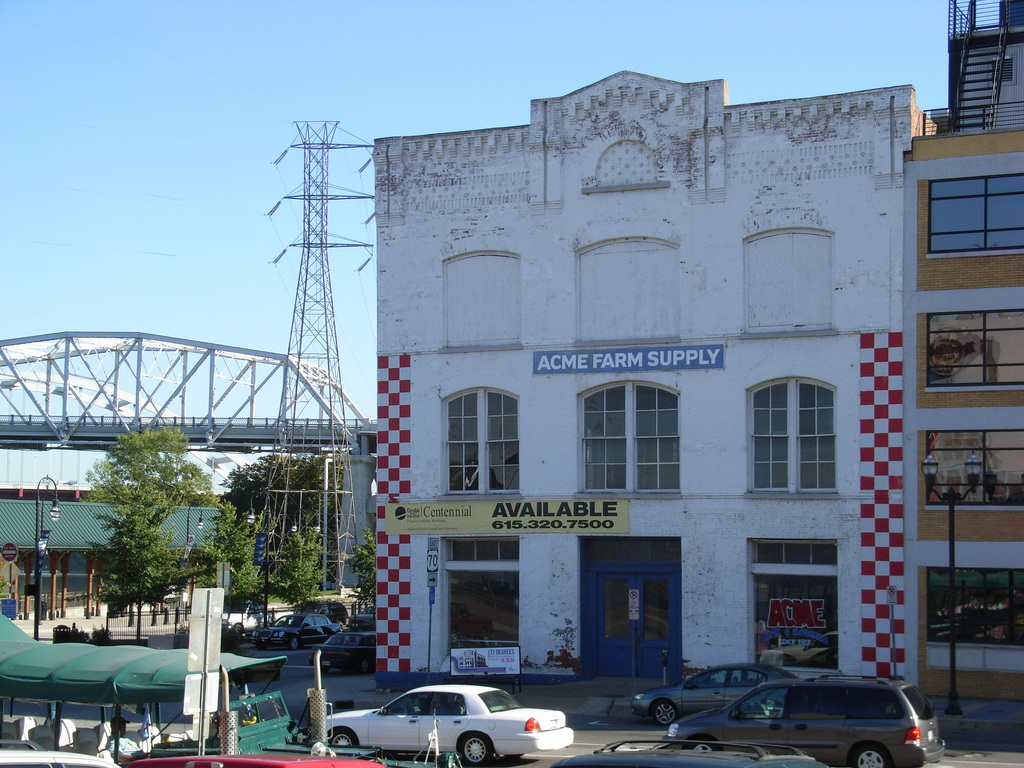Car: (0, 602, 944, 767)
